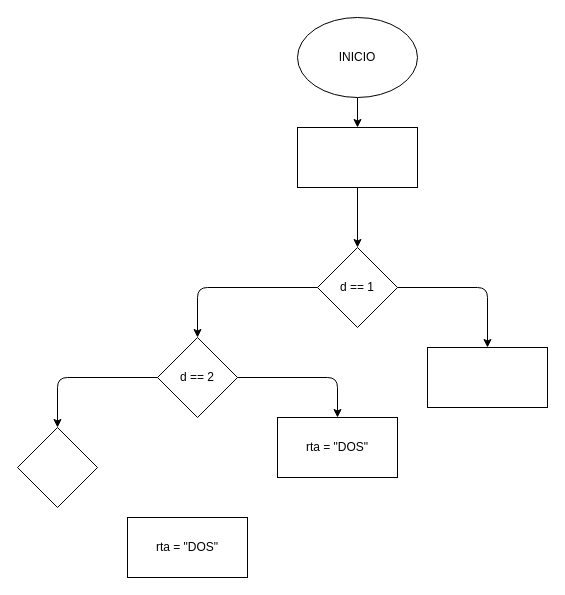
Image size: 565x595. Some labels were removed from this diagram. The centre of each missing label's shape, as x and y in pixels:
d = random(1,6): the point at 357,157
d == 3: the point at 57,467
rta = "UNO": the point at 487,377
